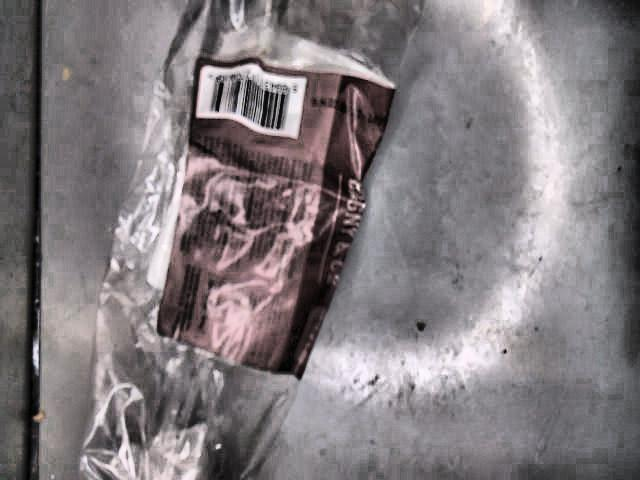Plastic: (74, 0, 424, 479)
